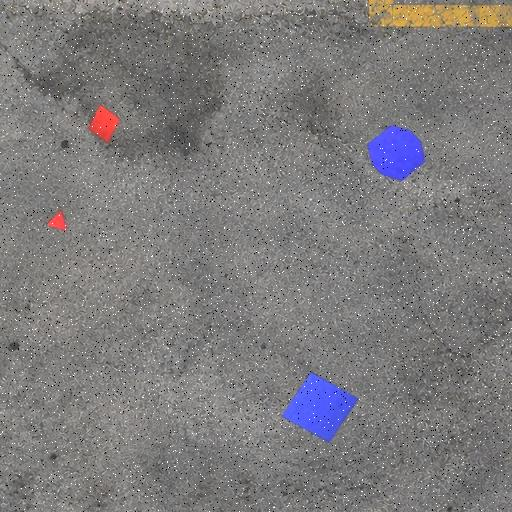BLUE_SQUARE: (282, 371, 359, 443)
RED_SQUARE: (87, 104, 121, 144)
